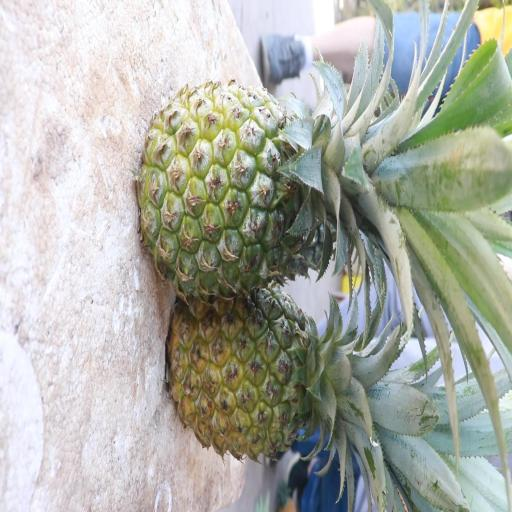------------------------------: (138, 75, 359, 290)
Pineapple - v8 v1: (166, 293, 370, 458)
